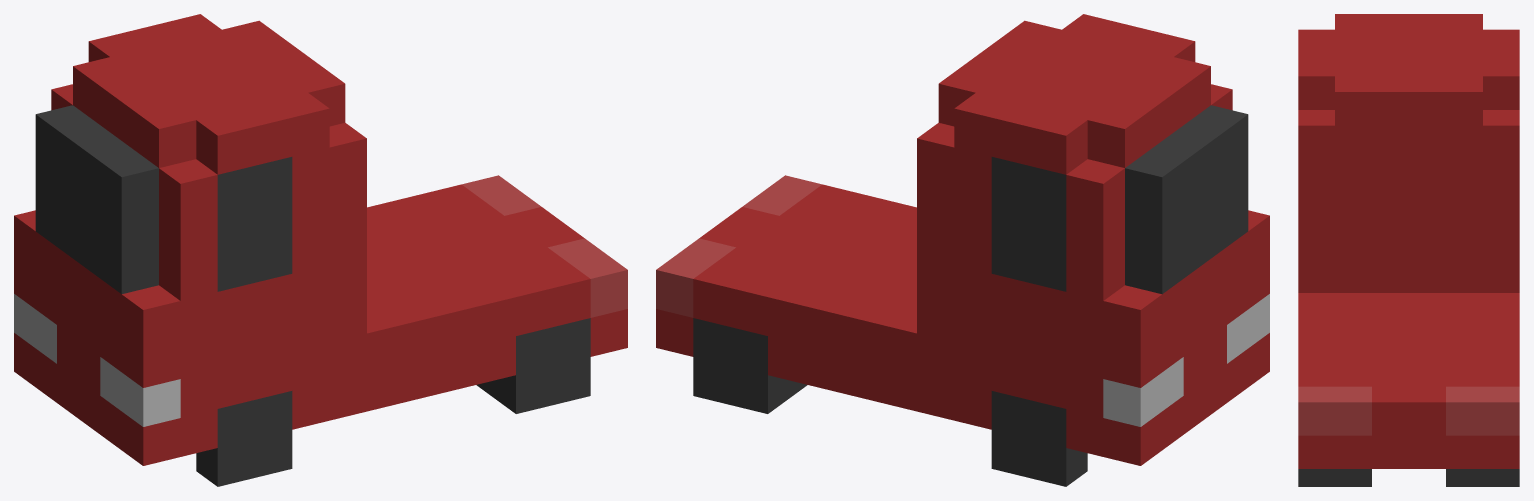
The model's file is truck-v2-red.gltf.
The picture shows the model from 3 angles, left to right: view 1: azimuth 30°, elevation 25°; view 2: azimuth 150°, elevation 25°; view 3: azimuth 270°, elevation 25°; orthographic projection. The views are drawn at different scales.
Visible parts, largest first — view 1: model, wheels; view 2: model, wheels; view 3: model, wheels.
Boxes of the visible parts, x1,y1,x2,y2 form: model: [14, 14, 627, 465]; wheels: [196, 318, 590, 486]; model: [656, 14, 1269, 465]; wheels: [693, 318, 1087, 486]; model: [1298, 14, 1519, 468]; wheels: [1298, 469, 1519, 486].
Bounding box in the file's own units: 1.3 × 0.9 × 0.6.
Materials: 2 (2 with a texture image).
